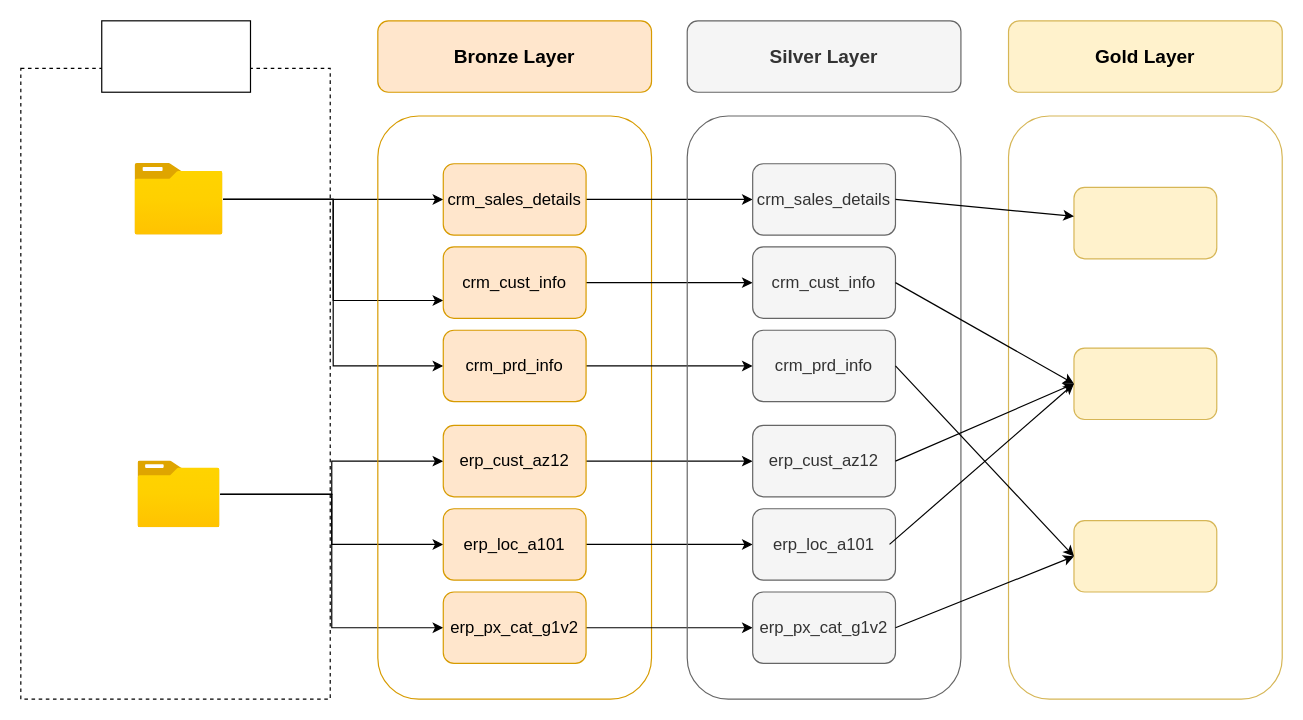
The diagram is 1303 pixels wide and 720 high, and some of its shapes have lost their labels. Here are the shapes that lost their labels. From the top down, the centre of each, then its label:
the point at 175,56: Sources
the point at 178,199: CRM
the point at 1145,222: facts_sales
the point at 1145,383: dim_customers
the point at 178,494: ERP
the point at 1145,555: dim_products
